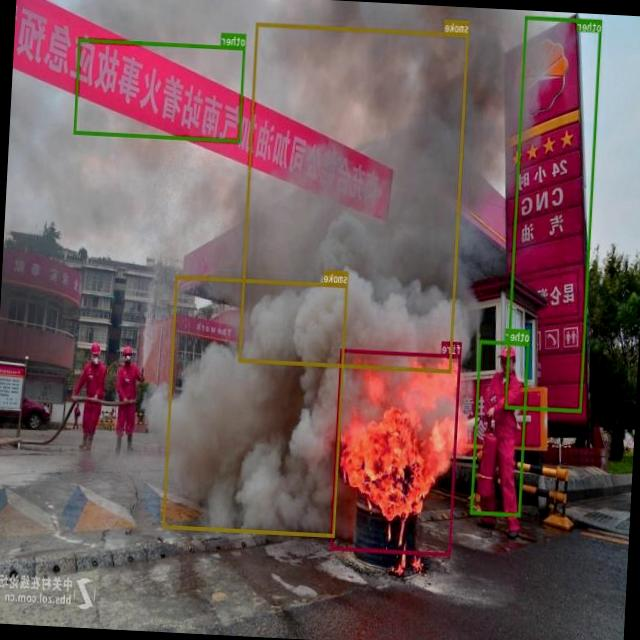fire: (331, 348, 462, 556)
smoke: (238, 21, 470, 372), (162, 274, 348, 537)
